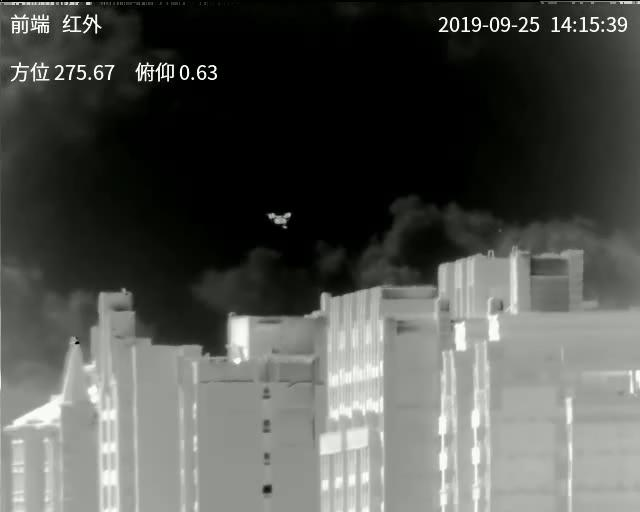uav: (267, 205, 292, 231)
